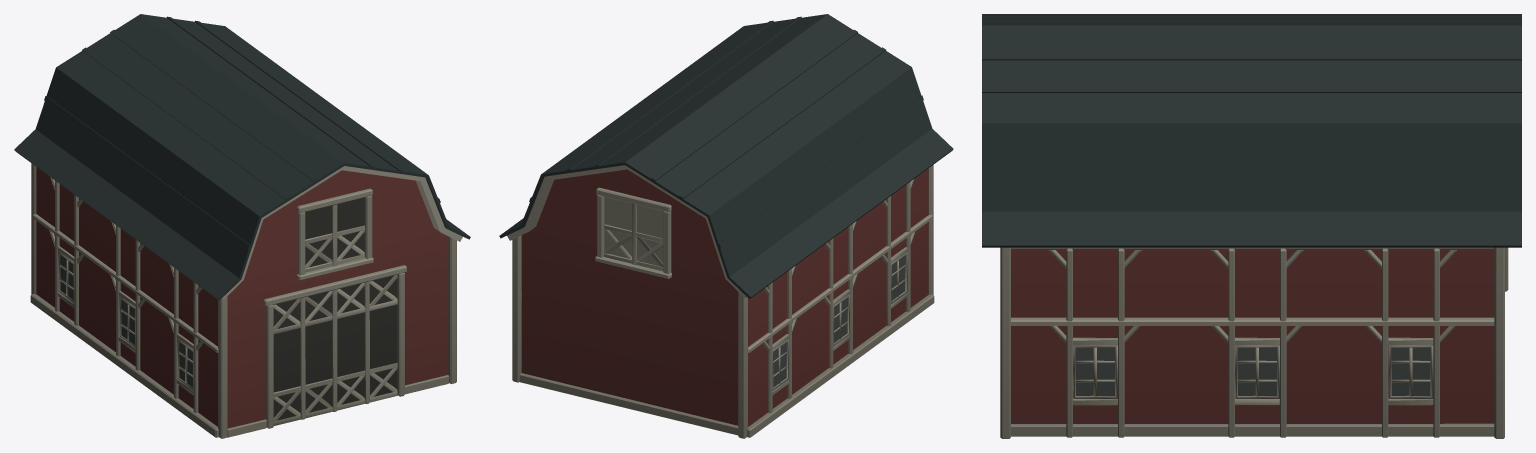
File: farm_barn_2.glb
3 views of the same model, side by side, from view 1: azimuth 30°, elevation 25°; view 2: azimuth 150°, elevation 25°; view 3: azimuth 270°, elevation 25° (orthographic). The views are drawn at different scales.
Parts seen in each view (by area): view 1: farm_barn_2; view 2: farm_barn_2; view 3: farm_barn_2.
Boxes of the visible parts, <box> form: farm_barn_2: <box>14,14,470,438</box>; farm_barn_2: <box>499,14,953,438</box>; farm_barn_2: <box>982,14,1521,438</box>.
Size of the model in its own units: 8.92 by 8.57 by 12.44.
1 material, 1 textured.
